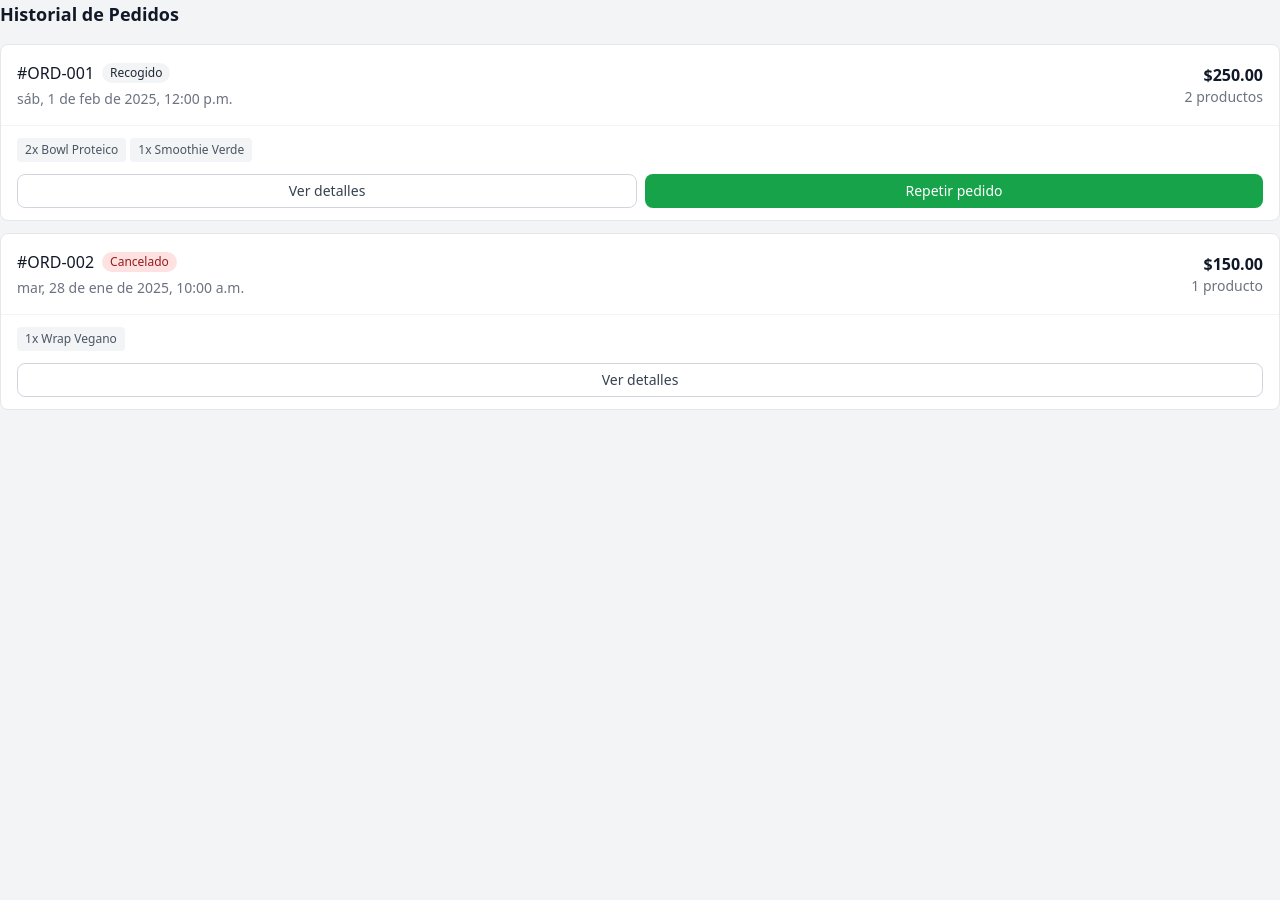
Scenario: OrderHistory › Order Detail Modal › should open modal when view details is clicked
The width and height of the screenshot is (1280, 900).
What coordinates should you click on to do the following:
click the button "Ver detalles" below "Bowl Proteico"
I would click on:
 (327, 191)
Its box is x1=17 y1=174 x2=637 y2=208.
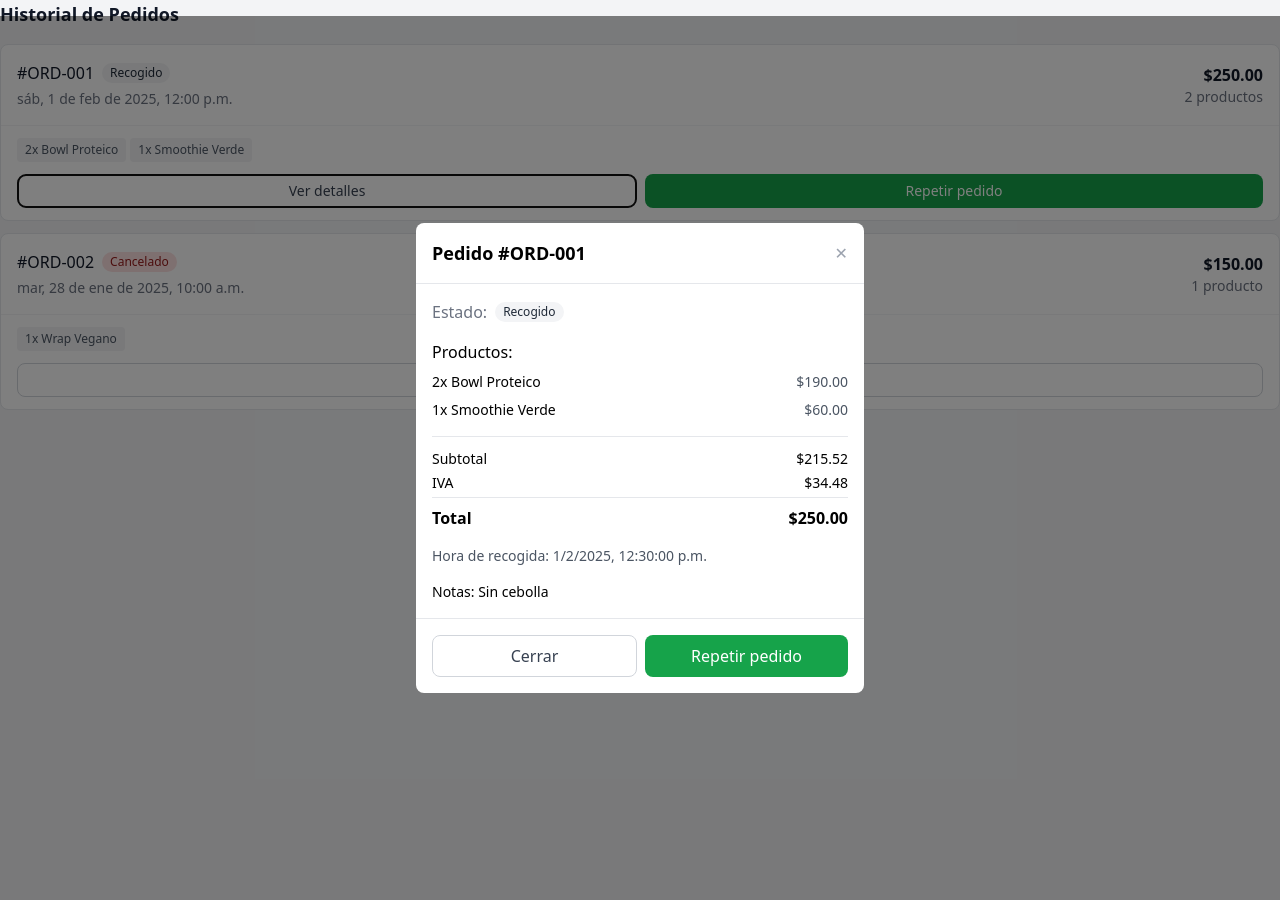
Expected: the heading "Pedido #ORD-001" is shown, x1=432 y1=239 x2=586 y2=267
